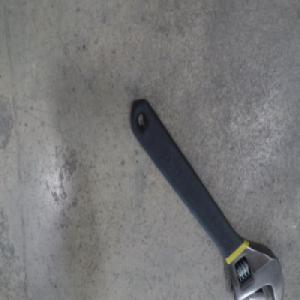AdjustableWrench: (129, 98, 283, 299)
